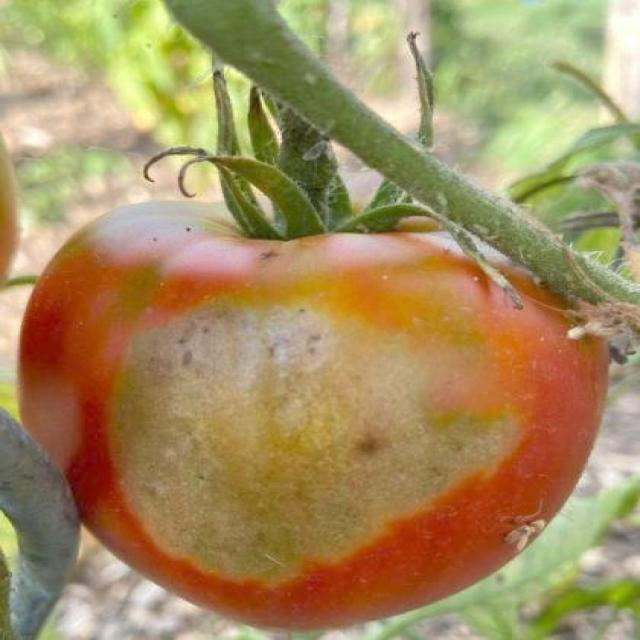Sunscald Fruit: (61, 177, 346, 400)
